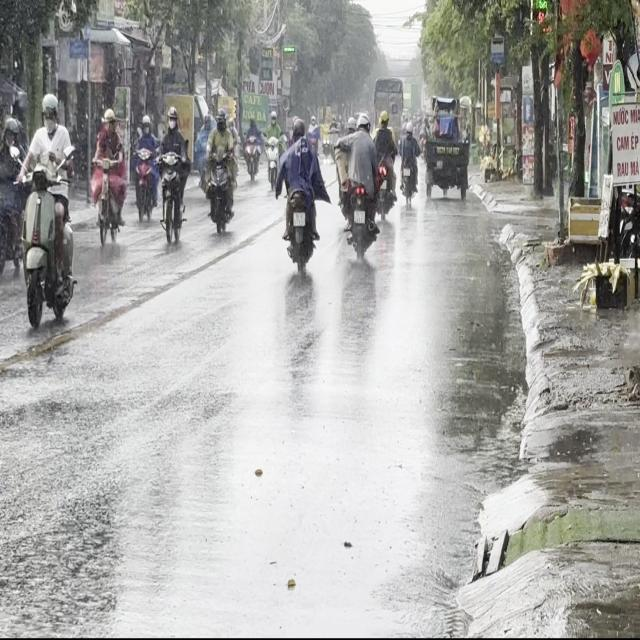helmet: (40, 91, 58, 126), (102, 107, 117, 134), (290, 117, 304, 141), (166, 105, 178, 130)
licenseplate: (18, 90, 78, 330), (278, 115, 322, 275), (88, 106, 130, 248), (156, 104, 189, 246)
nohelmet: (294, 213, 305, 226)
